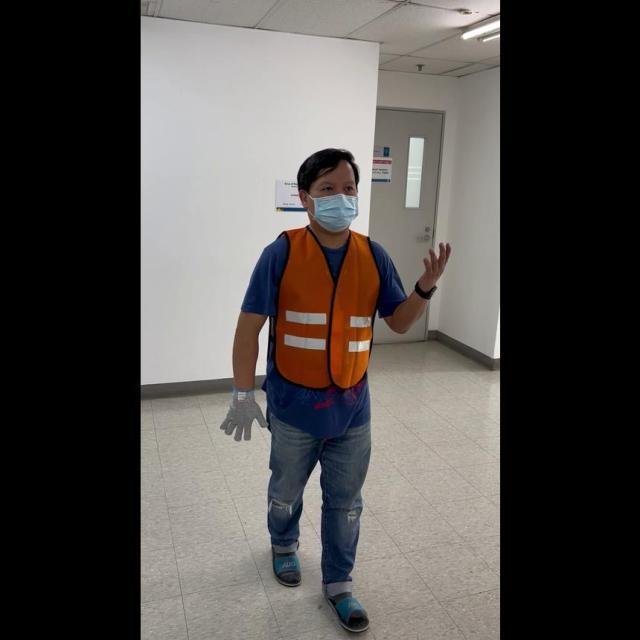bare_hand: (417, 235, 451, 294)
gloved_hand: (218, 385, 269, 441)
